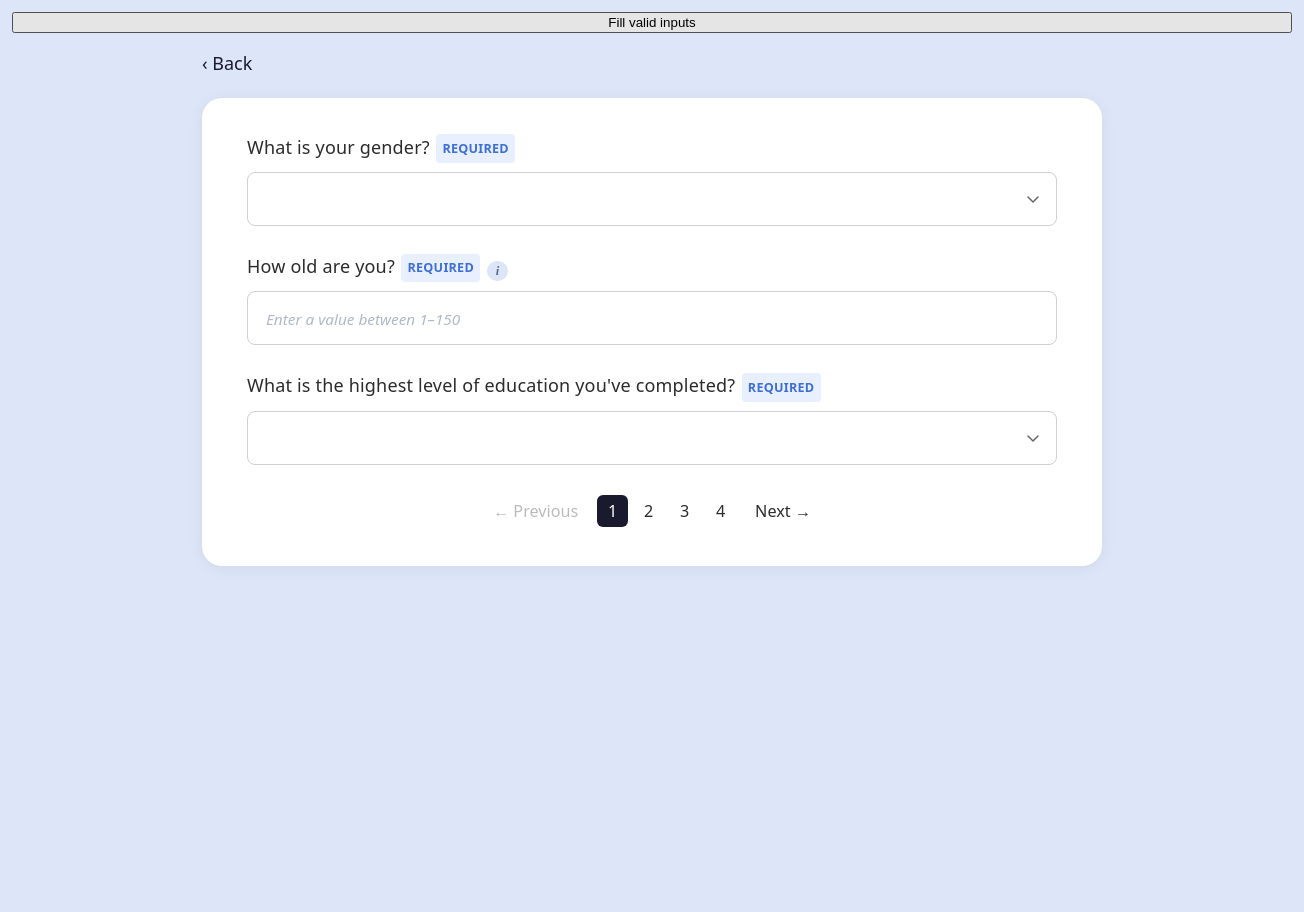
Test: validates before saving inputs
Click the button "4" at (721,511), box [705,495,736,527]
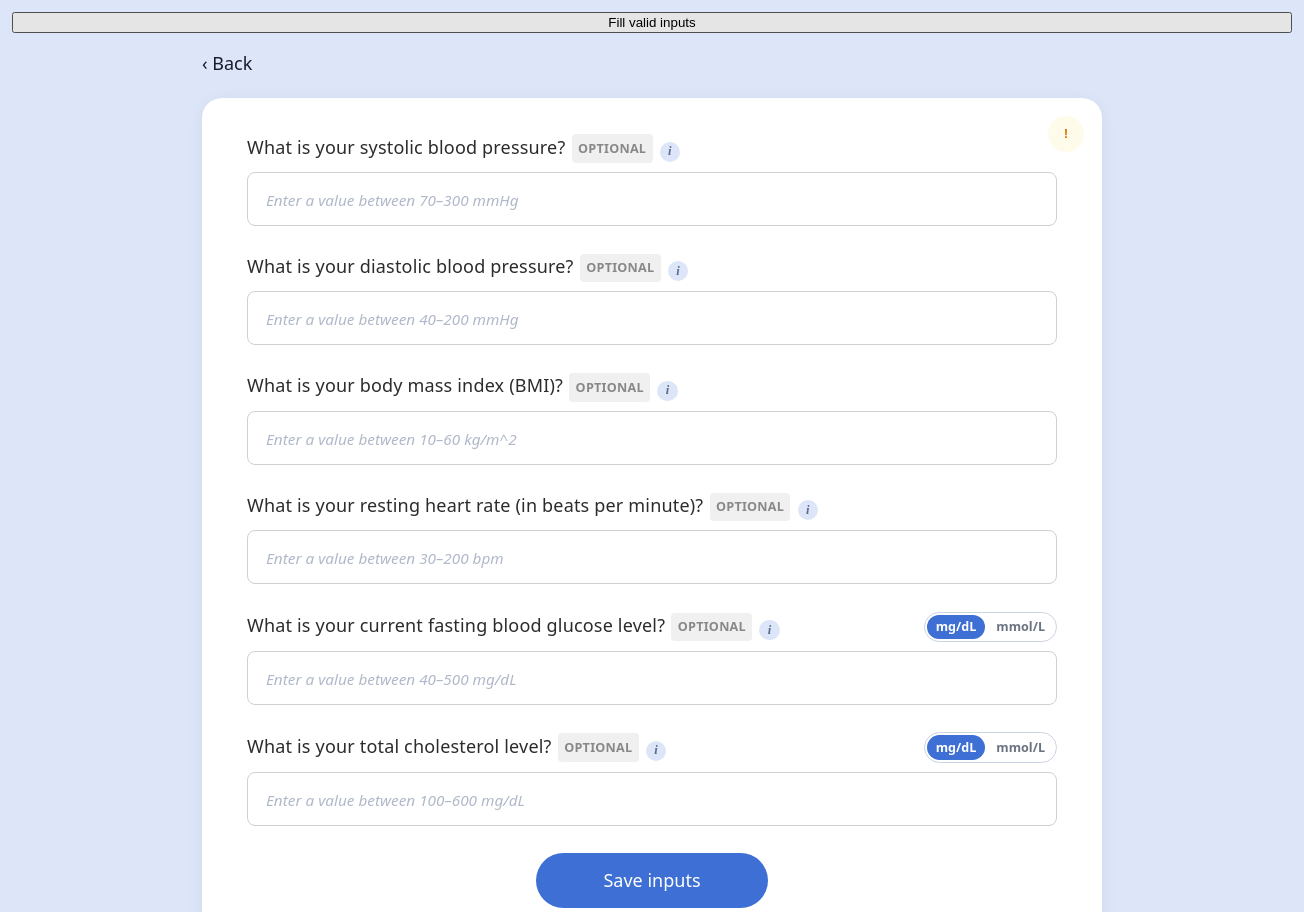
Click the button "Save inputs" at (652,880), box [536,853,768,908]
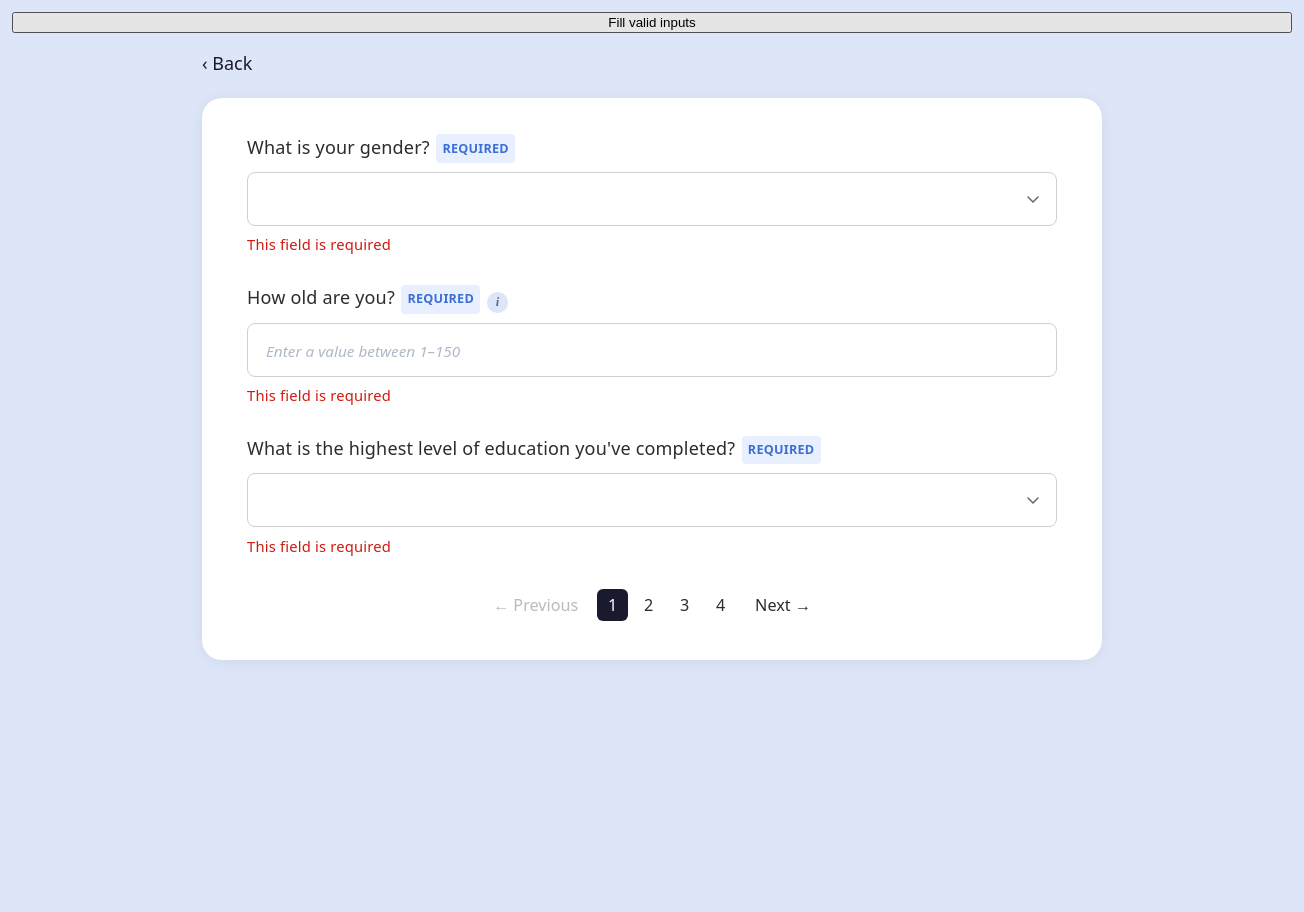
Check: the text "This field is required" below "What is your gender?" is shown, box [247,234,391,254]
